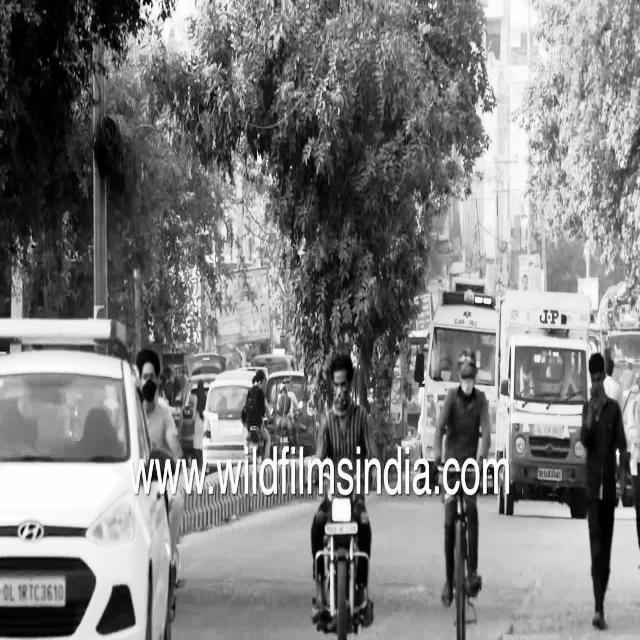Ambulance: (417, 280, 497, 489)
